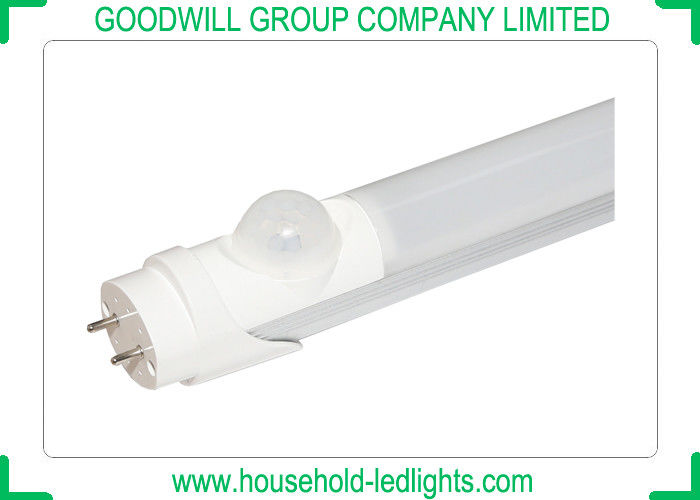Light_bulb: (92, 95, 618, 396)
